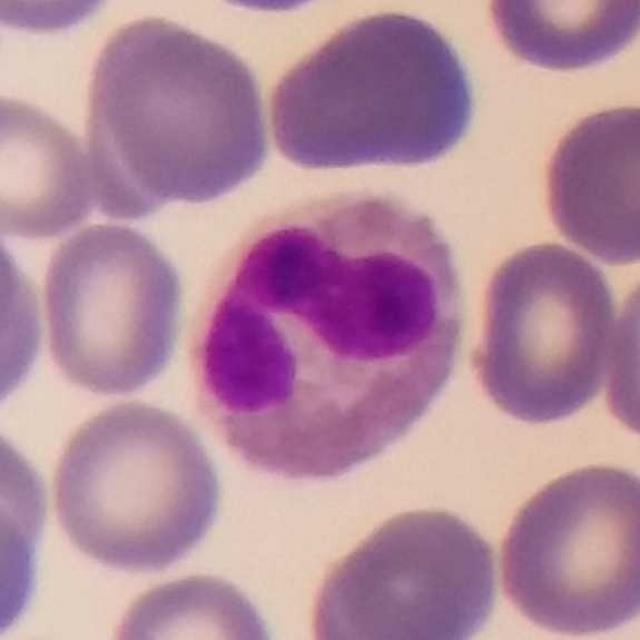eosino: (185, 194, 468, 484)
